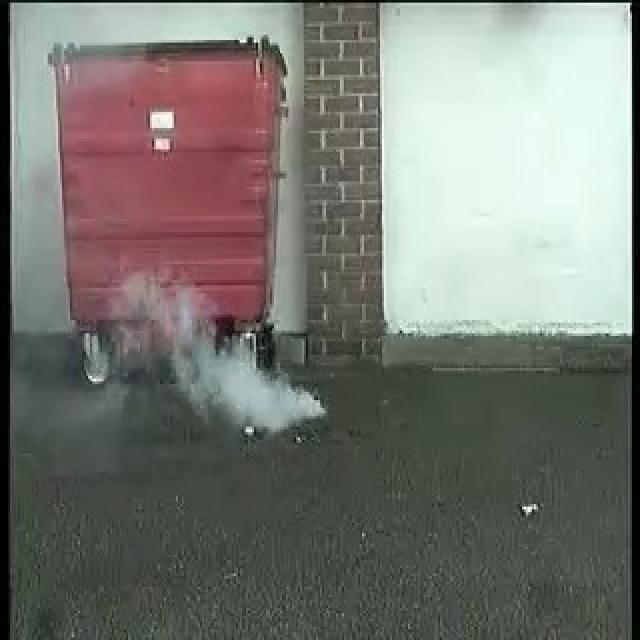Smoke: (122, 273, 326, 433)
